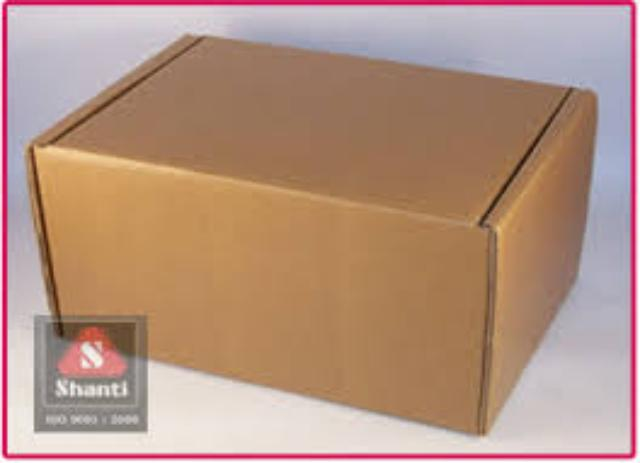cardboard paper: (24, 34, 592, 429)
